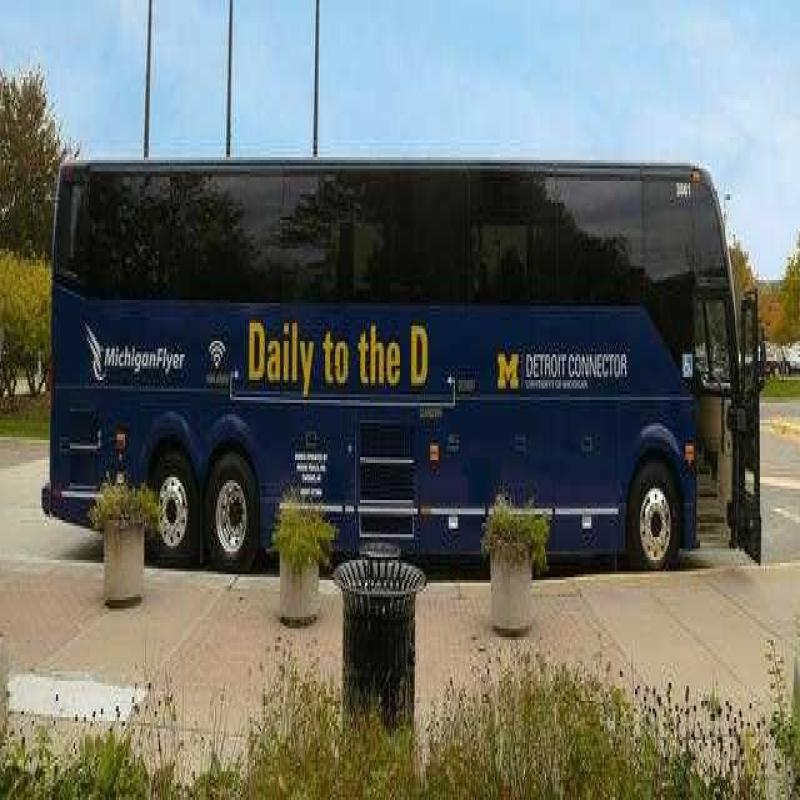bus: (45, 127, 763, 603)
